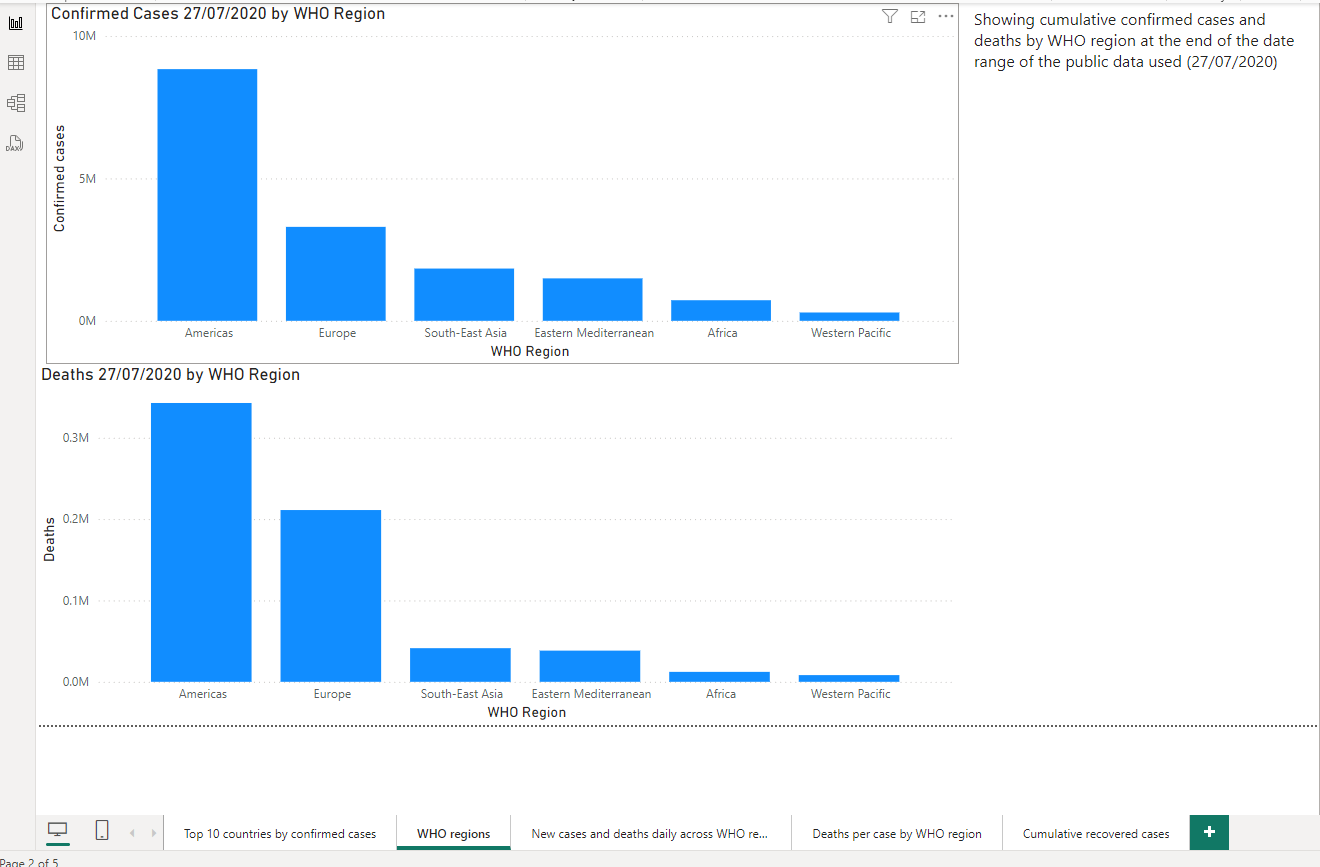

What the dashboard file says about the page in this screenshot:
{"tool":"powerbi","page":{"name":"WHO regions","canvas":[1280,720],"ordinal":1},"visuals":[{"type":"clusteredColumnChart","title":"Confirmed Cases 27/07/2020 by WHO Region","fields":{"Category":["full_grouped.WHO Region"],"Y":["full_grouped.ConfirmedCasesAtEndOfDateRange"]},"box":[10.5,0,910.6,360.1],"z":0},{"type":"clusteredColumnChart","title":"Deaths 27/07/2020 by WHO Region","fields":{"Category":["full_grouped.WHO Region"],"Y":["full_grouped.DeathsAtEndOfDateRange"]},"box":[0,360.1,921.1,360.1],"z":1000},{"type":"textbox","box":[931,0,349,360],"z":2000}]}

Visuals, with their boxes on the page's 1280x720 design canvas (x1, y1, x2, y2). These are canvas units, not pixel positions in the 1320x867 screenshot, which may show the page scaled, cropped or inside an application window:
"Confirmed Cases 27/07/2020 by WHO Region" clusteredColumnChart: bbox=[10, 0, 921, 360]
"Deaths 27/07/2020 by WHO Region" clusteredColumnChart: bbox=[0, 360, 921, 720]
textbox: bbox=[931, 0, 1280, 360]
